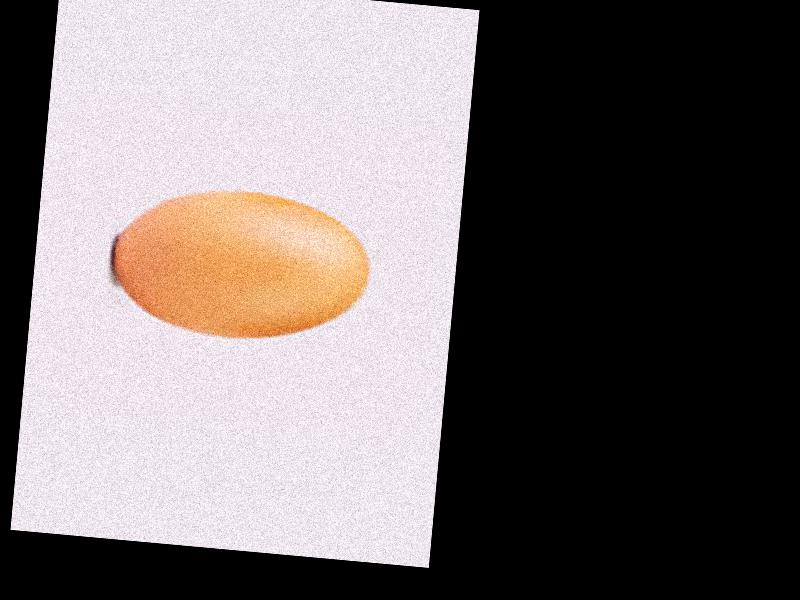Eggs: (105, 182, 379, 348)
